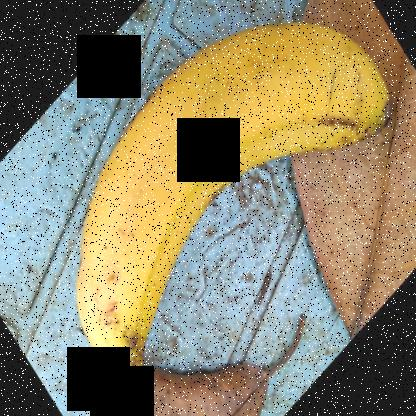ripe: (71, 1, 384, 382)
